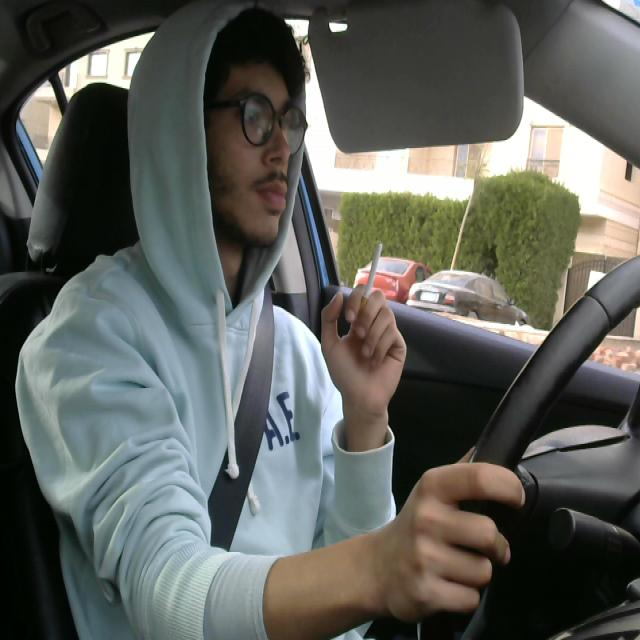smoking: (358, 236, 386, 321)
